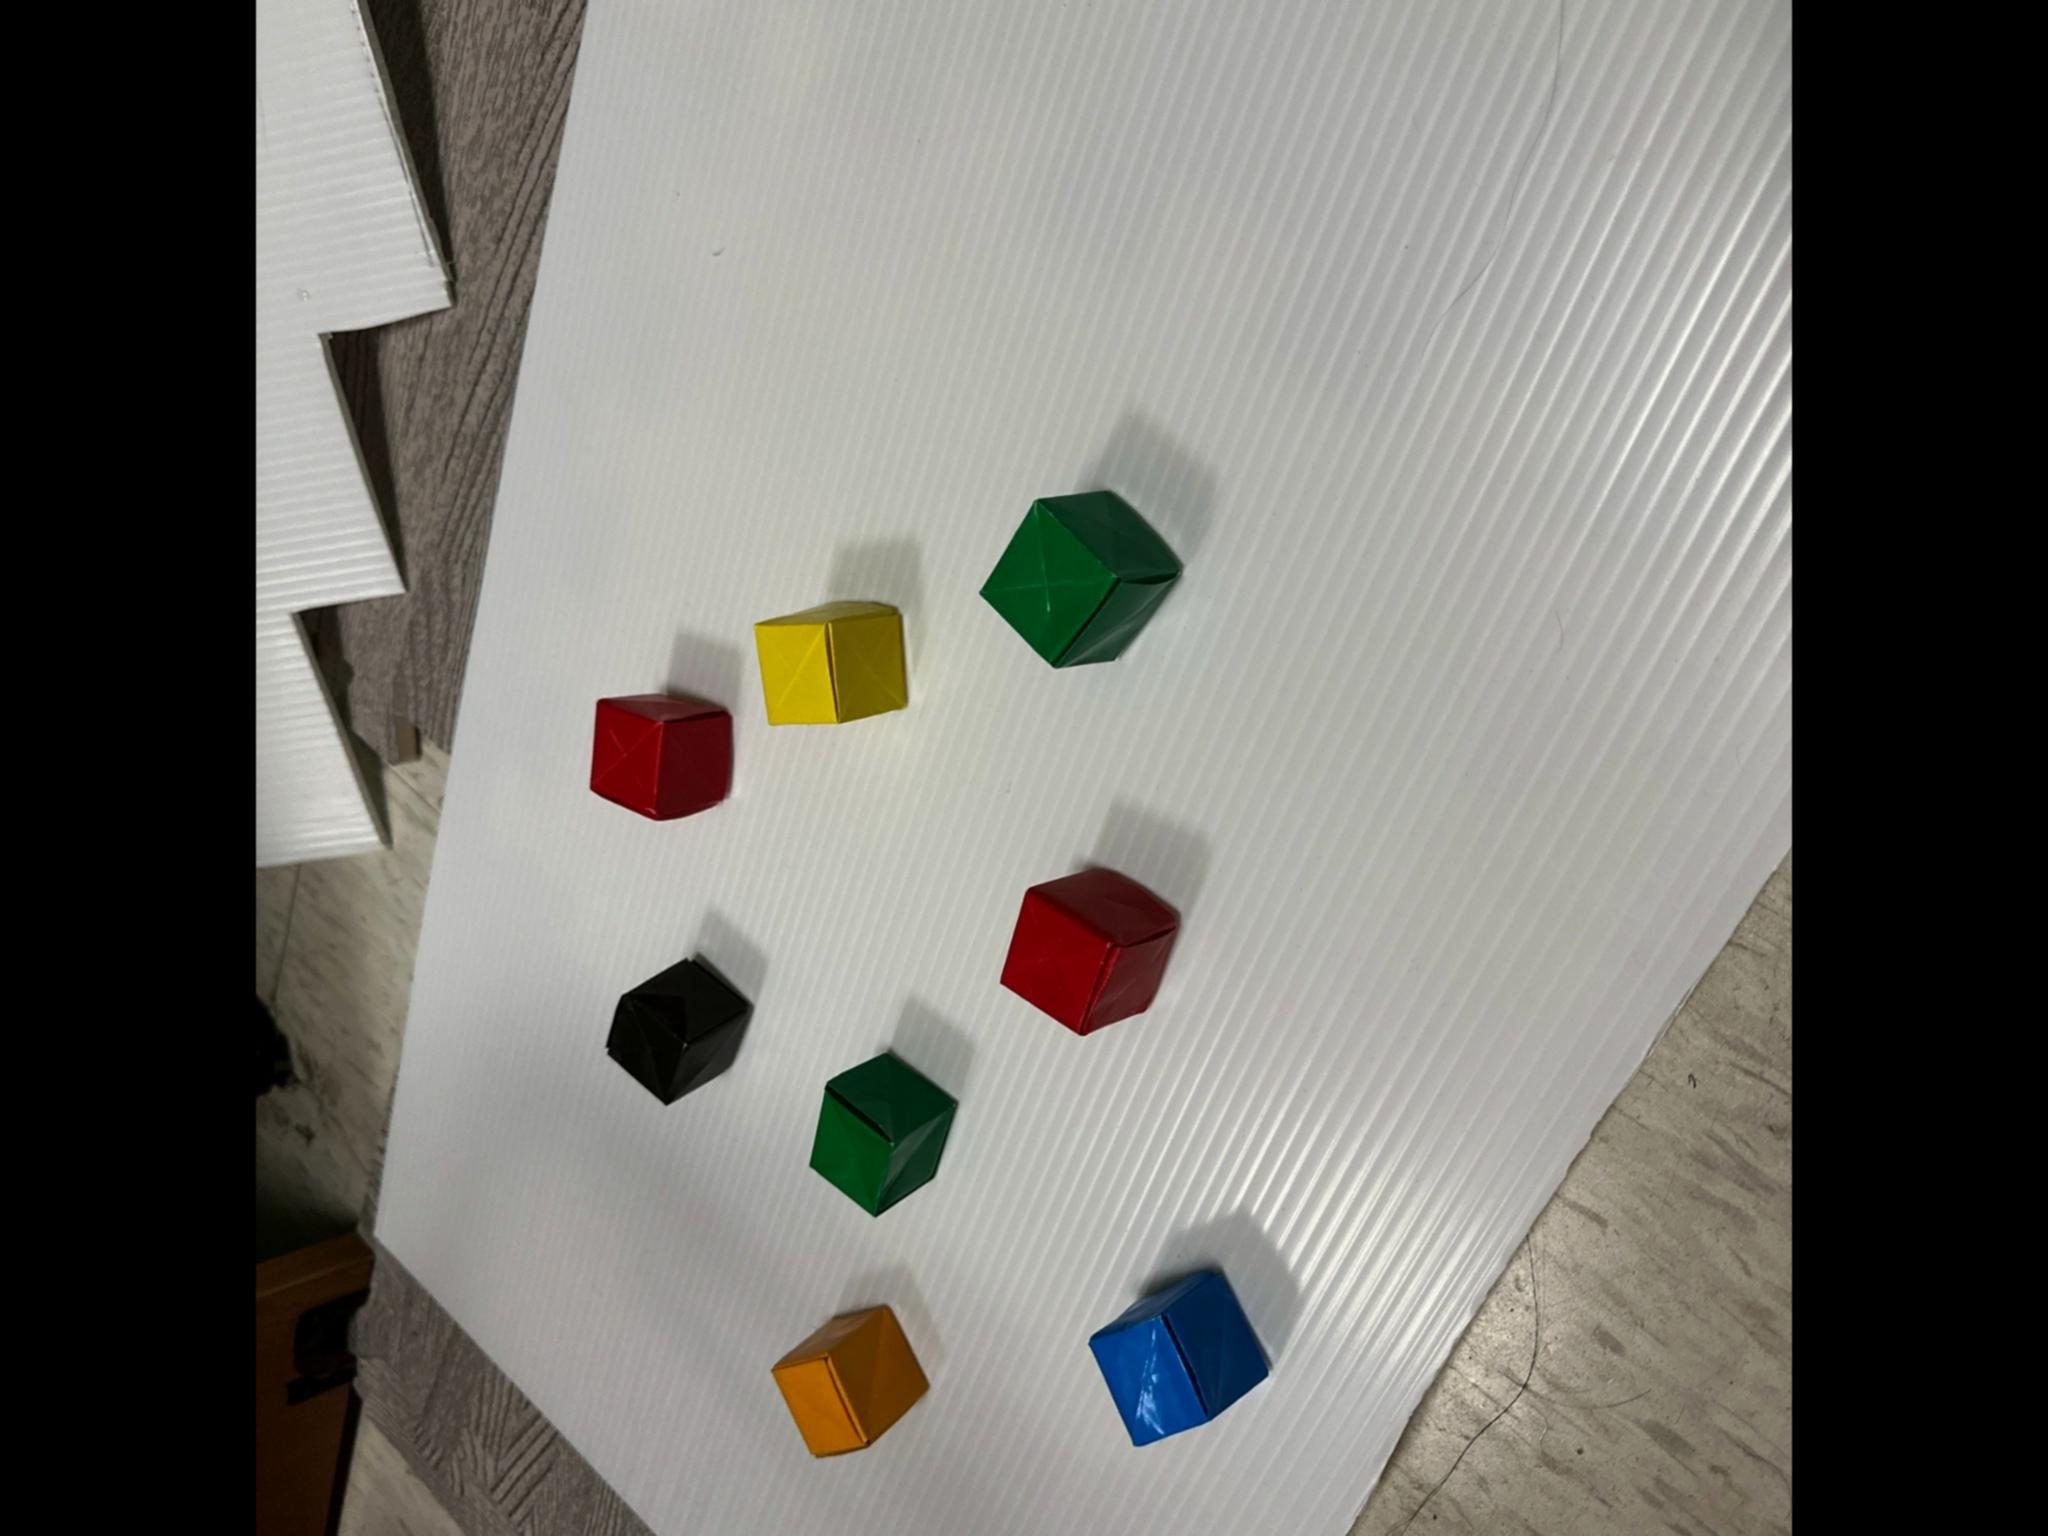cube: (982, 492, 1179, 668), (1090, 1270, 1269, 1444), (1001, 868, 1177, 1034), (811, 1052, 955, 1215), (772, 1307, 926, 1455), (606, 958, 751, 1104), (755, 602, 906, 724), (590, 694, 732, 820)
